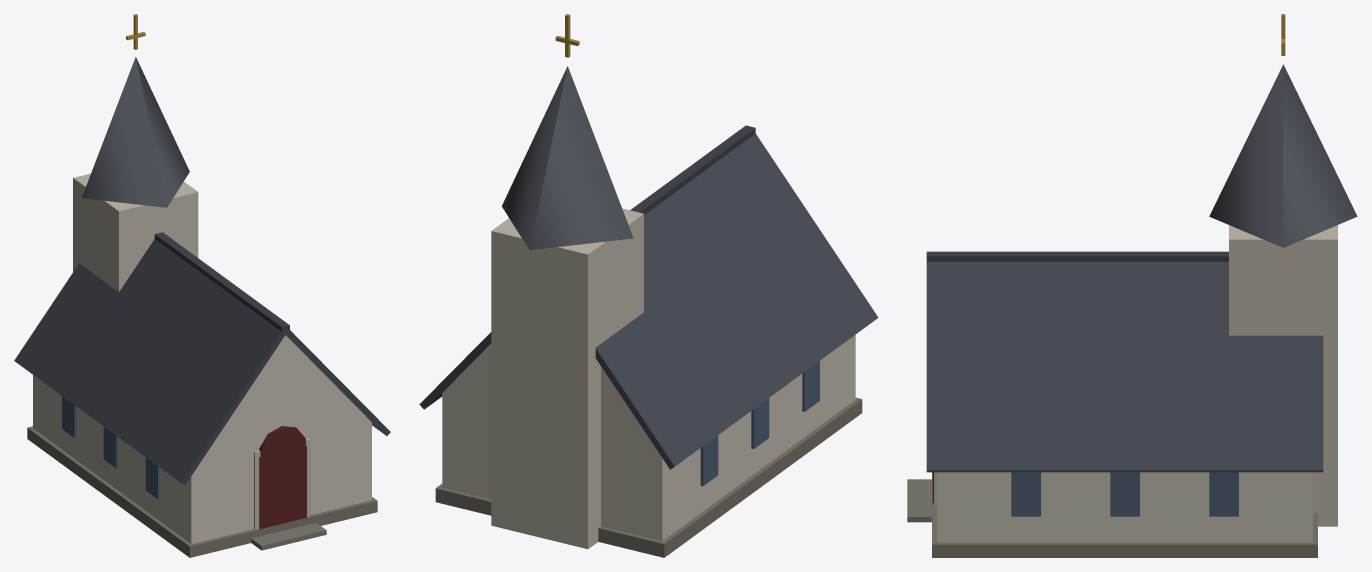
File: procedural_chapel@4.glb
The picture shows the model from 3 angles, left to right: view 1: azimuth 30°, elevation 25°; view 2: azimuth 150°, elevation 25°; view 3: azimuth 270°, elevation 25°; orthographic projection. The views are drawn at different scales.
Visible parts, largest first — view 1: part_0; view 2: part_0; view 3: part_0.
Boxes of the visible parts, x1,y1,x2,y2 form: part_0: [14, 14, 390, 557]; part_0: [419, 14, 878, 557]; part_0: [907, 14, 1357, 557].
Size of the model in its own units: 5.81 by 10.9 by 9.1.
